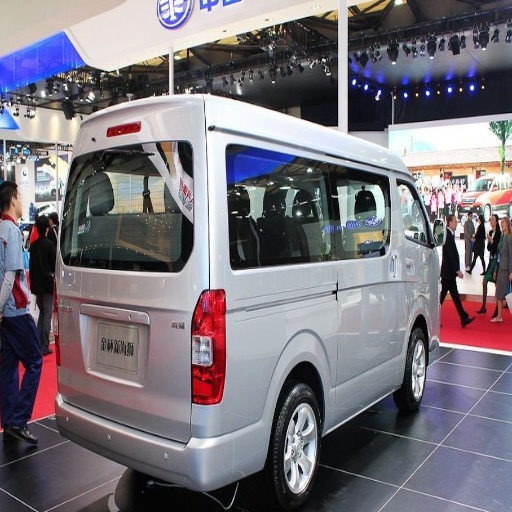back_bumper: (43, 362, 272, 493)
back_right_door: (376, 172, 423, 244)
tailgate: (58, 263, 110, 373)
trunk: (61, 261, 439, 435)
